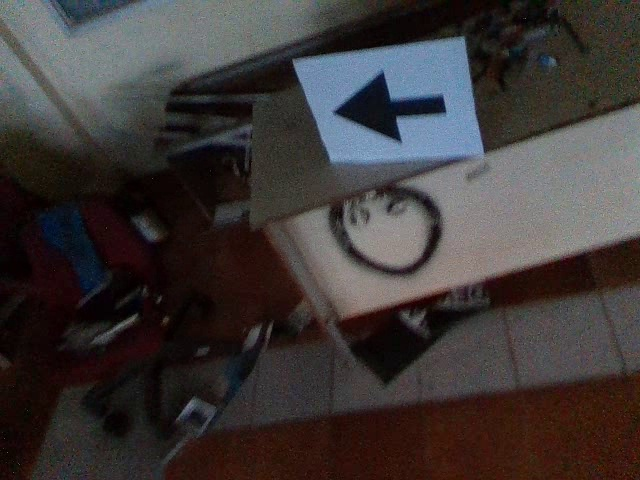Left: (327, 65, 452, 150)
